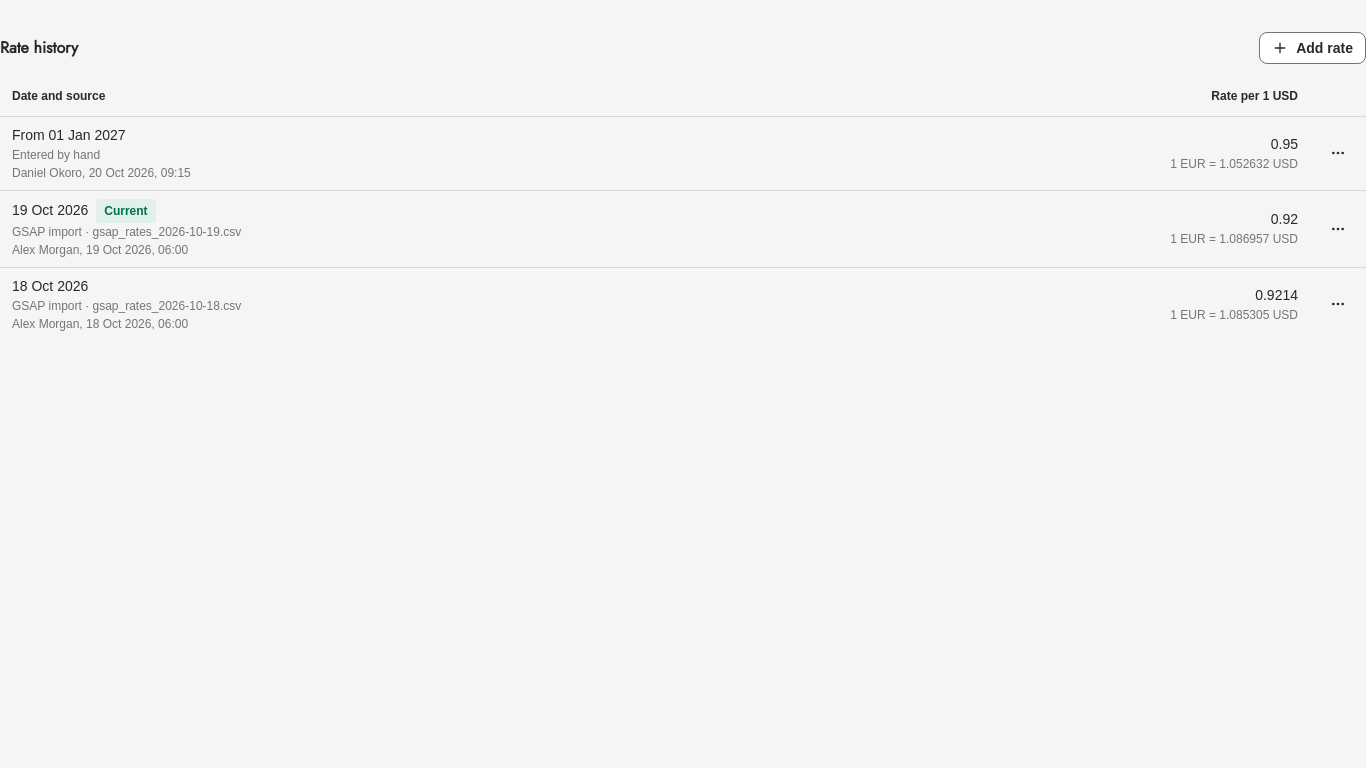
it: RateDialog: Add rate (016 FR-003, FR-005) › adds a rate dated today, with the rate both ways while it is typed
Check: the table is shown, box [0,76,1365,340]
Click the button "Add rate" at (1313, 48), box [1259,32,1365,64]
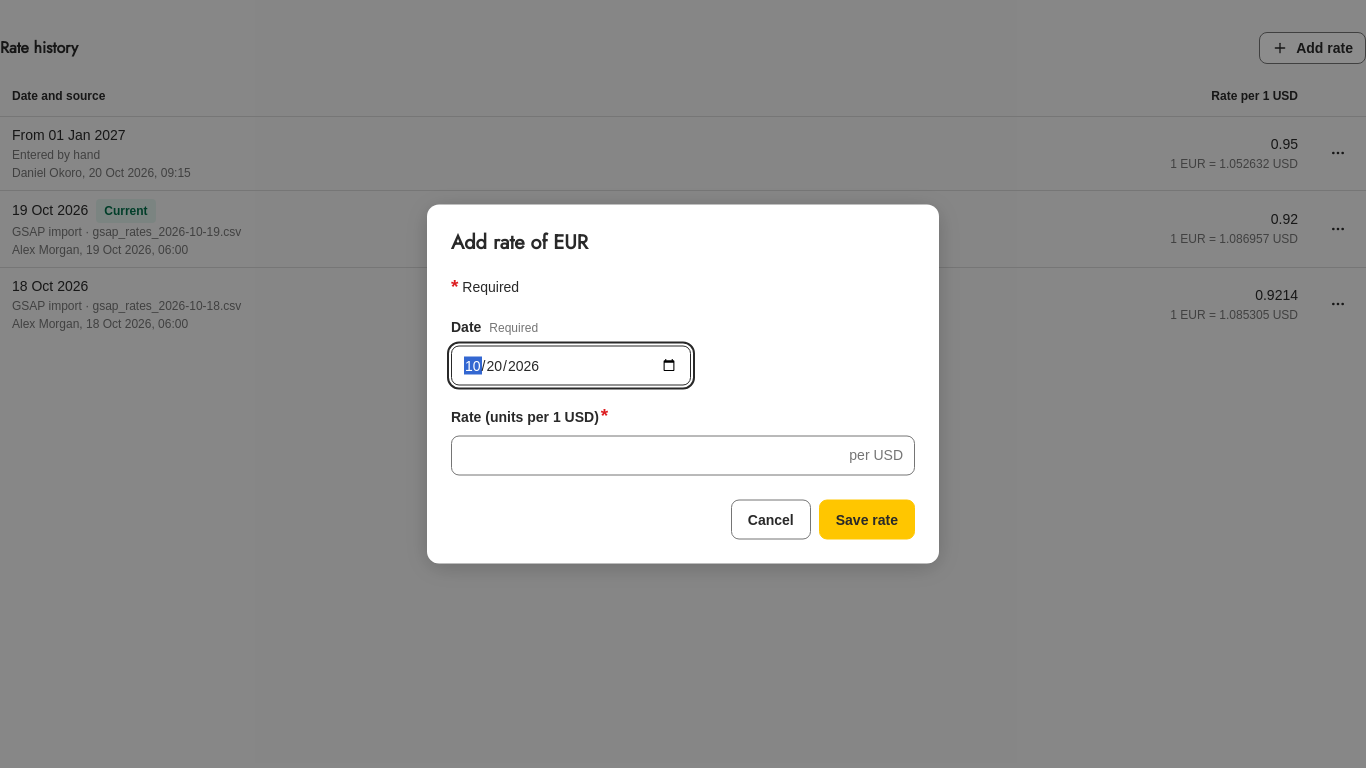
Check: the date field labelled "Date" holds "2026-10-20", box [451,346,691,386]
Type "0.93" into the field labelled "Rate (units per 1 USD)" at (683, 456), box [451,436,915,476]
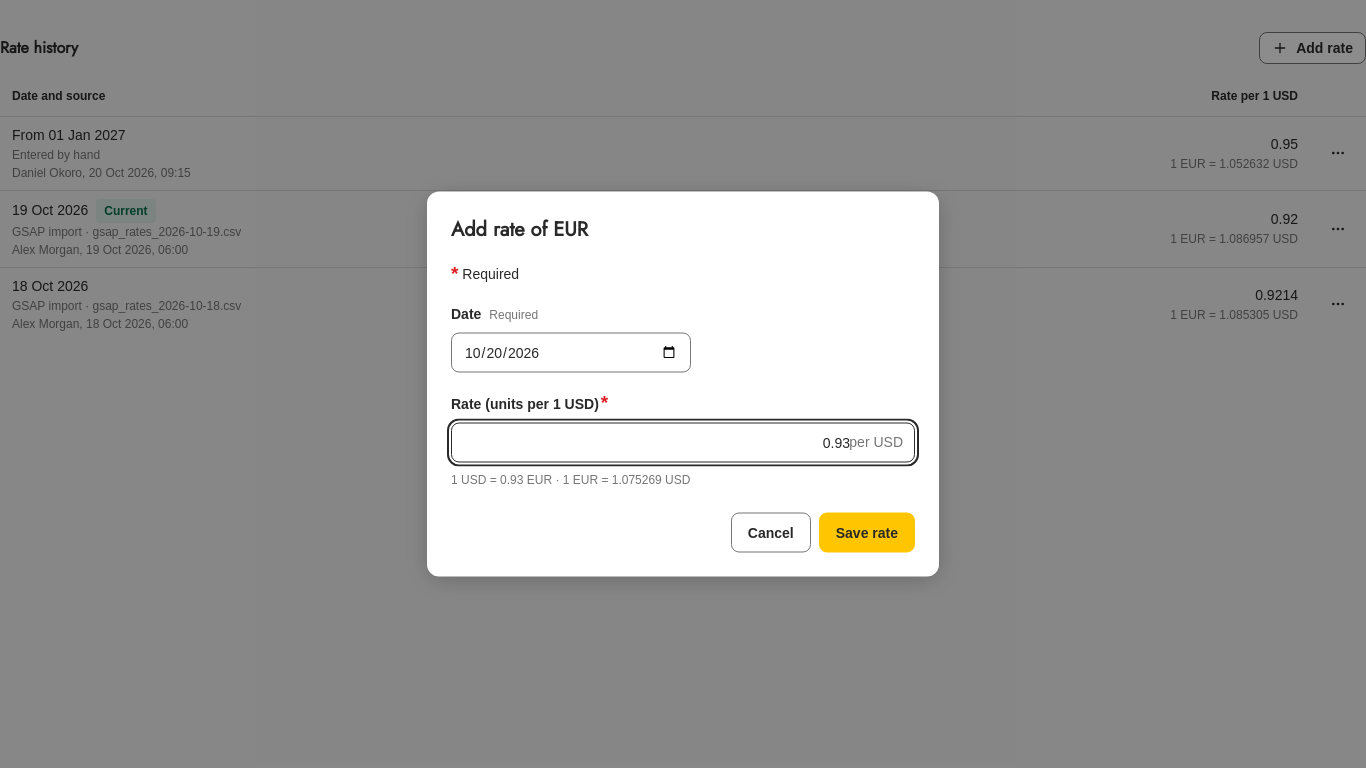
Check: the dialog "Add rate of EUR" shows "1 USD = 0.93 EUR · 1 EUR = 1.075269 USD", box [451,472,690,486]
Click the button "Save rate" at (867, 532), box [819,512,915,552]
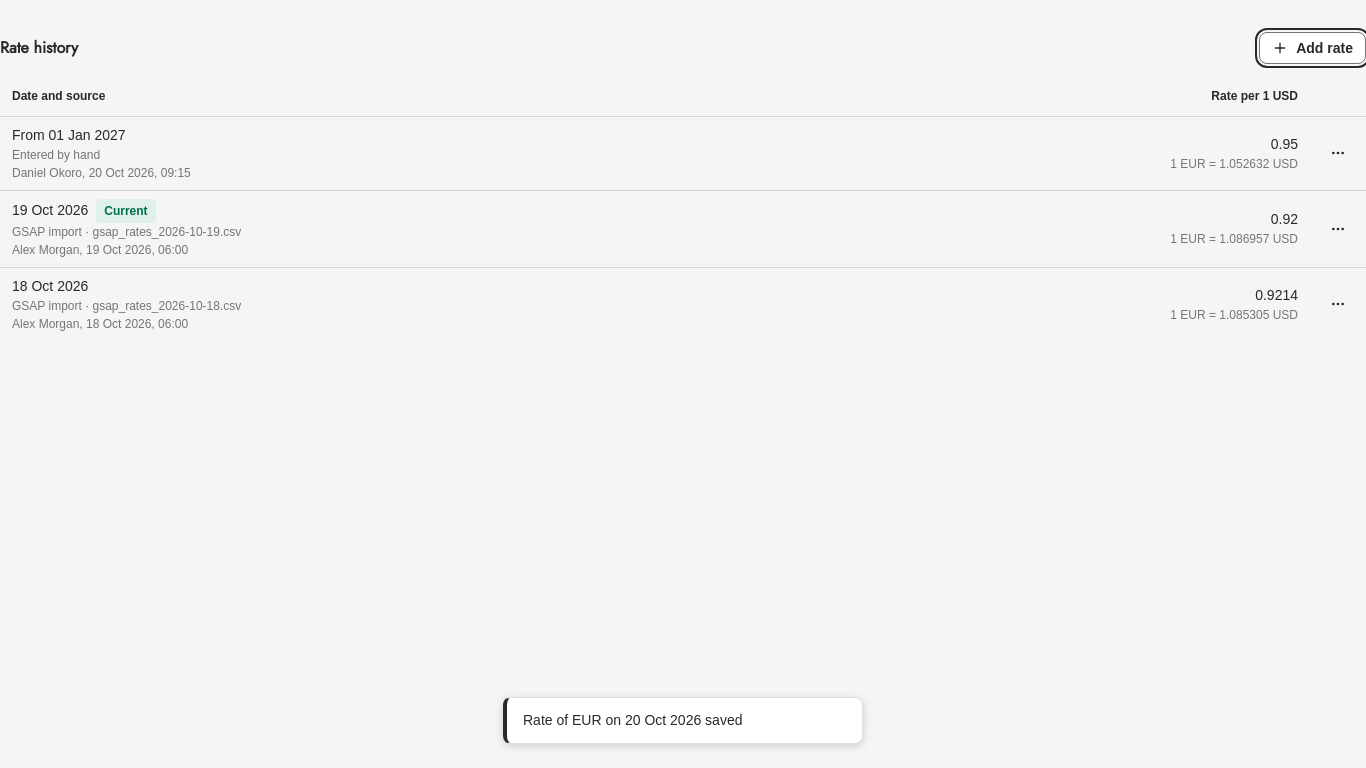
Check: the dialog is gone
Check: the text "Rate of EUR on 20 Oct 2026 saved" is shown, box [523,712,742,728]
